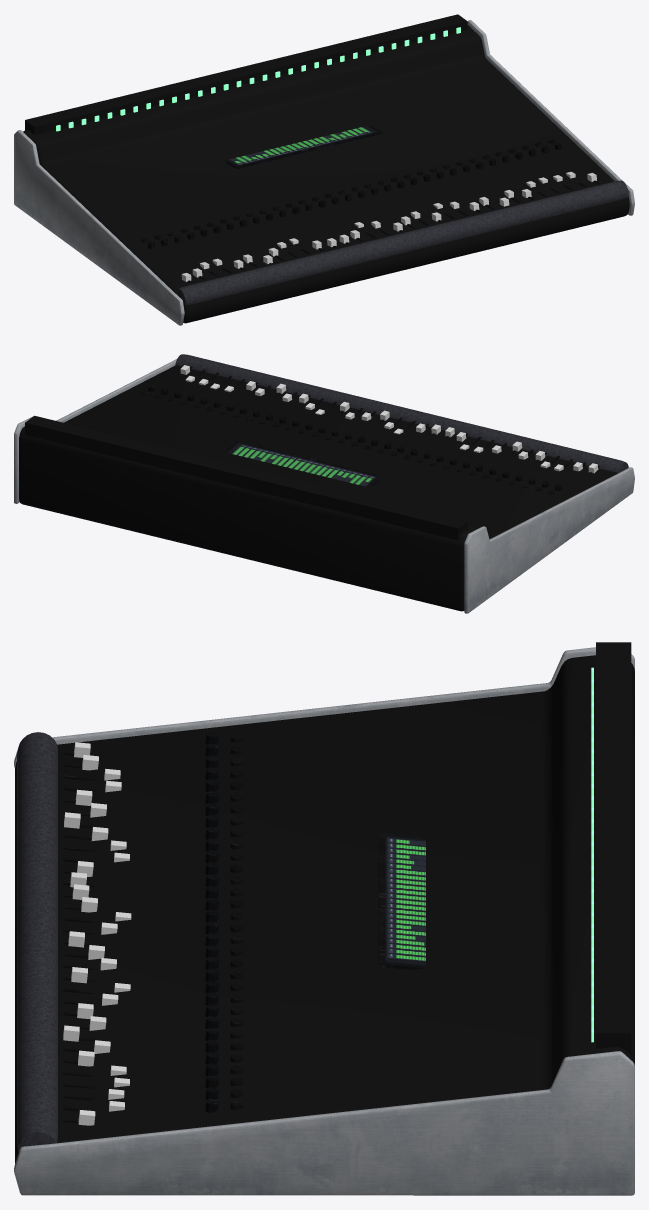
File: audio_console_avidly_s7l.gltf
The picture shows the model from 3 angles, top to bottom: view 1: azimuth 30°, elevation 25°; view 2: azimuth 150°, elevation 25°; view 3: azimuth 270°, elevation 25°; orthographic projection. The views are drawn at different scales.
Parts seen in each view (by area): view 1: audio_console_avidly_s7l; view 2: audio_console_avidly_s7l; view 3: audio_console_avidly_s7l.
Boxes of the visible parts, left/top/right/bottom form: audio_console_avidly_s7l: left=14, top=14, right=634, bottom=325; audio_console_avidly_s7l: left=14, top=354, right=634, bottom=613; audio_console_avidly_s7l: left=14, top=642, right=634, bottom=1195.
Bounding box in the file's own units: 1.37 × 0.24 × 0.8794.
8 materials, 5 textured.
